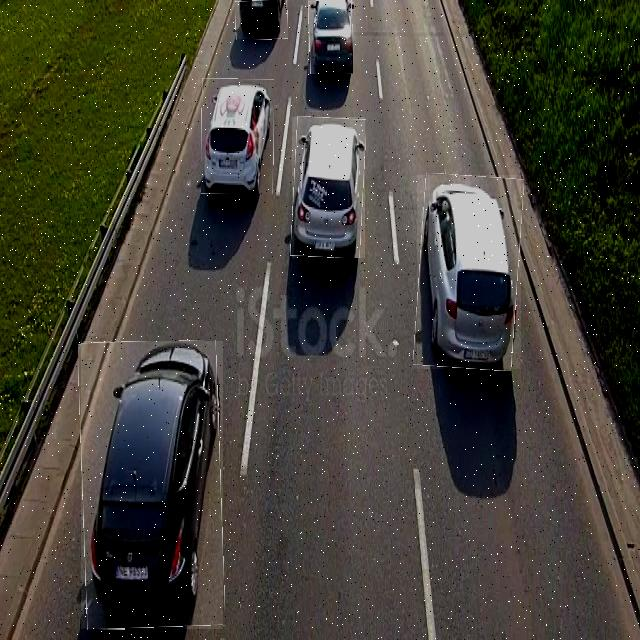Car: (81, 342, 223, 630), (417, 175, 521, 369), (292, 117, 365, 258), (202, 79, 274, 194), (308, 0, 352, 74), (235, 0, 288, 39)
